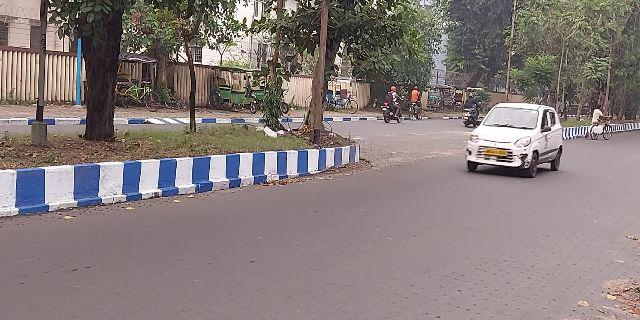Car: (465, 102, 570, 176)
Cycle: (587, 113, 615, 143)
Motorbike: (379, 82, 406, 132)
